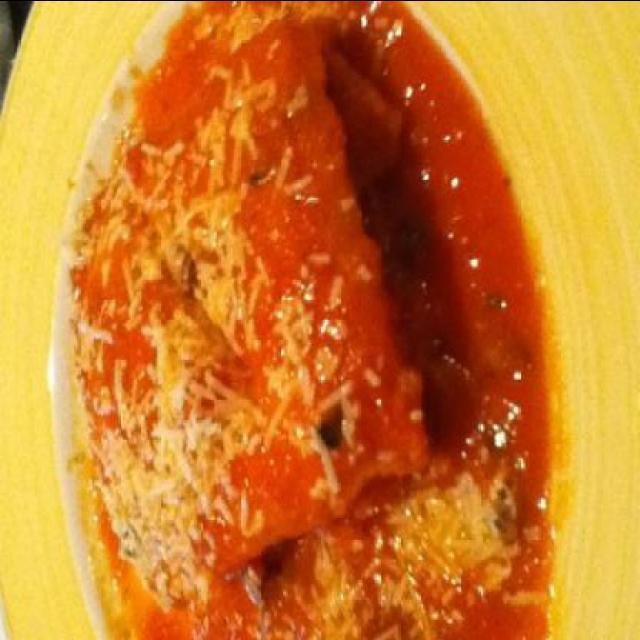Lasagna: (88, 1, 408, 618)
